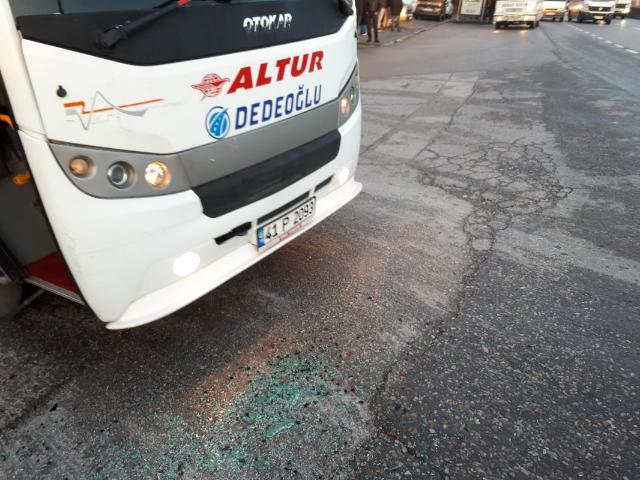rub: (65, 231, 84, 277)
scratch: (148, 102, 182, 110), (89, 119, 110, 124), (65, 120, 76, 122)
